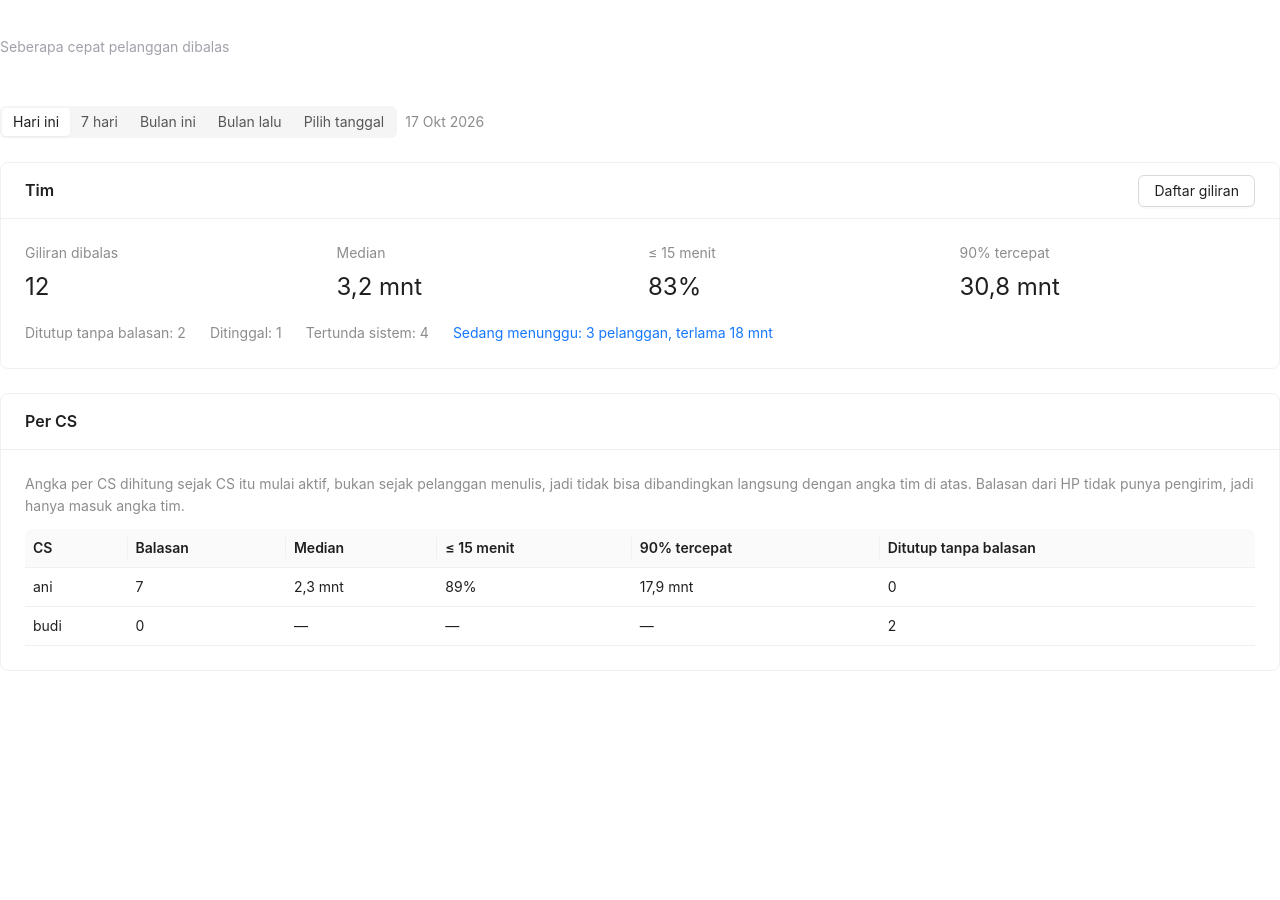
the CS performance page › opens one CS's waits, marking a deleted thread and a system delay
Click the text "ani": [76, 587] box [25,568,128,607]
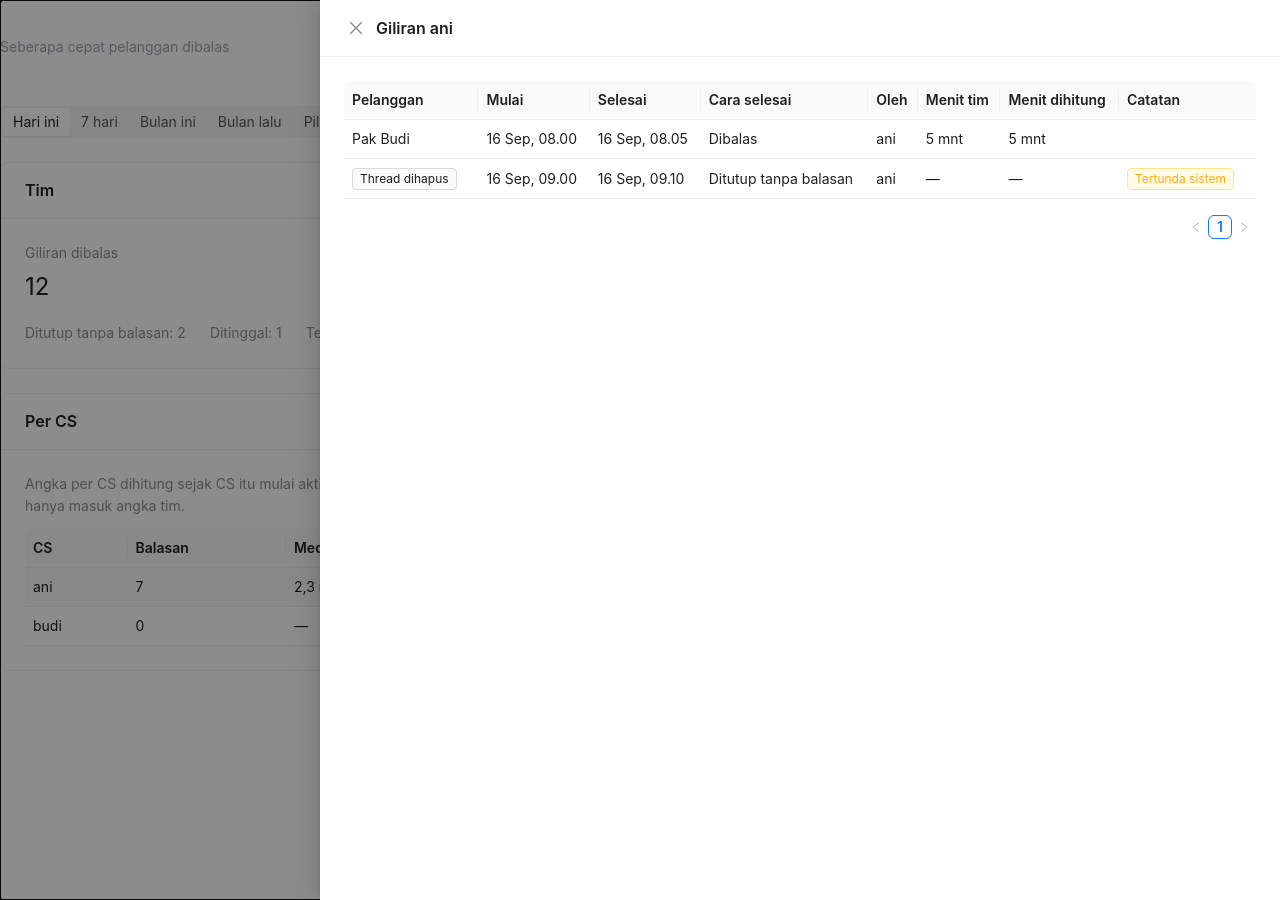
Expected: the text "Giliran ani" is shown, [376,18,453,38]
Expected: the text "Pak Budi" is shown, [344,120,478,159]
Expected: the text "Thread dihapus" is shown, [352,168,457,190]
